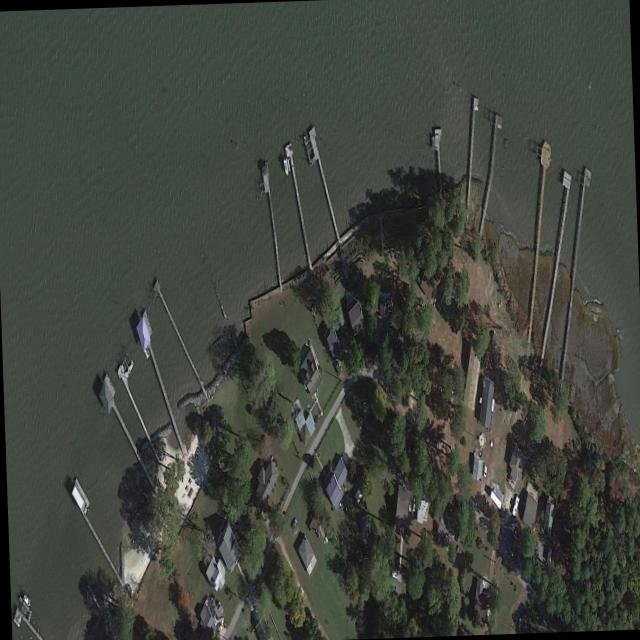ship: (510, 493, 519, 518), (22, 591, 30, 608), (282, 157, 288, 177), (430, 136, 434, 150)
small-vehicle: (290, 516, 297, 532), (482, 462, 487, 479), (411, 497, 415, 513)
